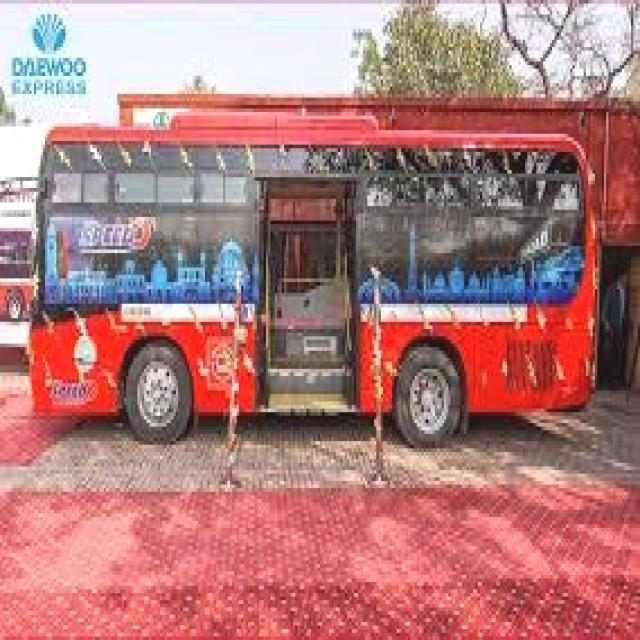Bus: (29, 98, 611, 468)
